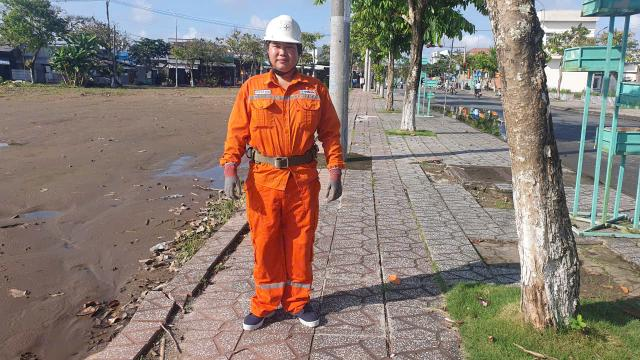gloves: (315, 160, 350, 208), (218, 159, 248, 195)
helmet: (256, 8, 314, 50)
shoes: (281, 298, 324, 331), (236, 301, 283, 331)
